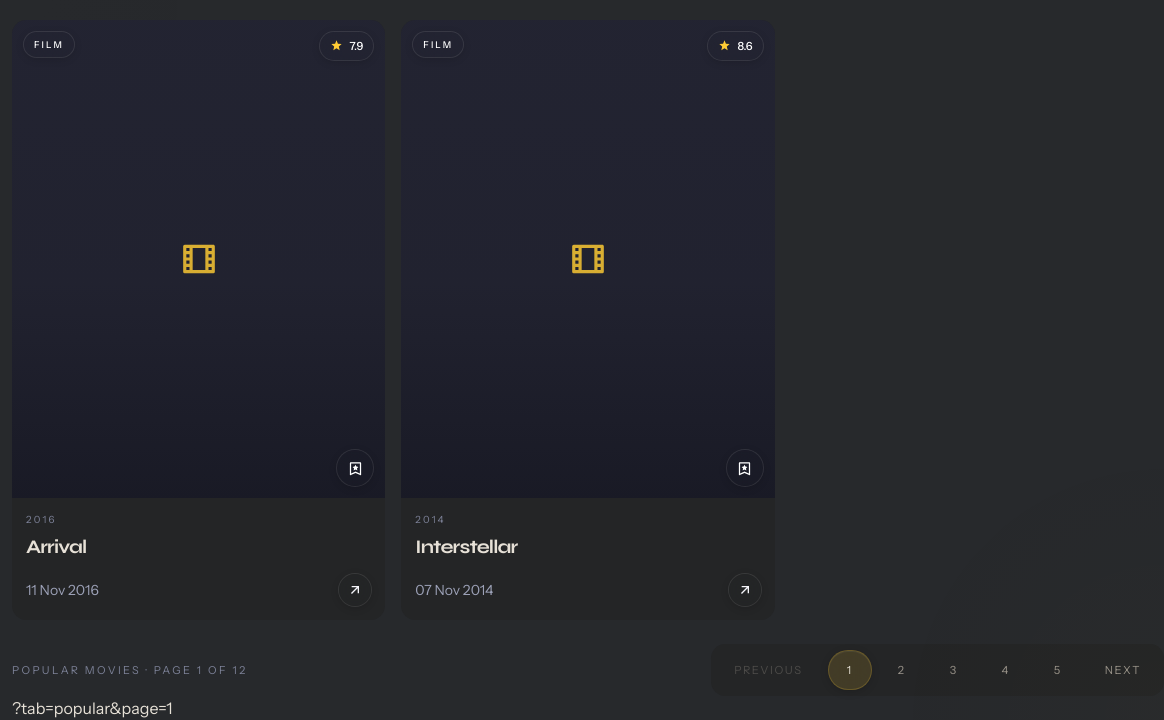
it: requests the next movie page from the active tab
The image size is (1164, 720).
(page scrolled)
Click the button named "go to page 2 for popular movies" at (902, 670), box [880,650,924,690]
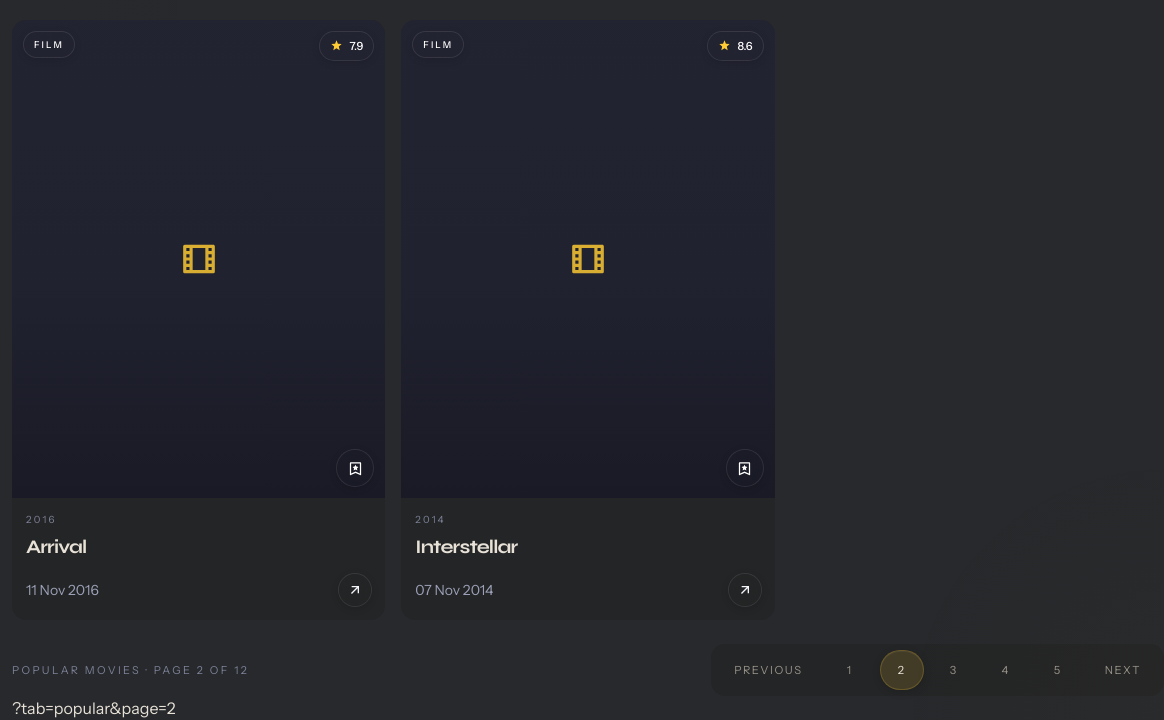
Expected: the text with test id "location-search" shows "tab=popular", [12,698,176,718]
Now the text with test id "location-search" shows "page=2", box [12,698,176,718]
